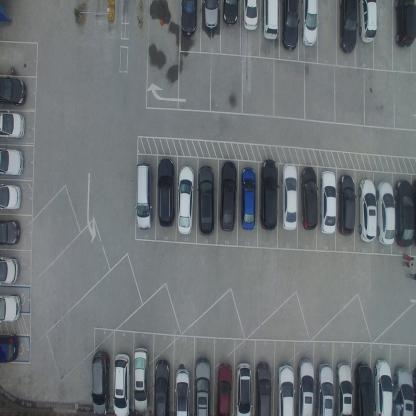car: (394, 178, 416, 248), (259, 158, 279, 231), (218, 160, 237, 233), (156, 157, 175, 228), (376, 181, 396, 245), (176, 165, 194, 236), (197, 164, 214, 238), (135, 162, 153, 231), (91, 350, 110, 415), (300, 165, 318, 231), (358, 178, 376, 242), (112, 352, 130, 415), (319, 170, 336, 236), (193, 354, 211, 416), (282, 162, 298, 231), (393, 365, 415, 415), (338, 174, 356, 235), (133, 345, 149, 413), (373, 358, 392, 415), (240, 165, 256, 231), (296, 357, 314, 415), (152, 358, 170, 416), (394, 0, 416, 46), (339, 0, 358, 53), (353, 362, 372, 415), (334, 360, 352, 415), (315, 363, 334, 415), (276, 364, 295, 416), (215, 362, 233, 416), (234, 362, 252, 415), (282, 0, 300, 52), (254, 361, 271, 416), (0, 76, 28, 107), (301, 0, 319, 48), (358, 0, 378, 43), (174, 367, 191, 415), (0, 146, 25, 178), (0, 292, 22, 324), (262, 0, 280, 39), (0, 110, 25, 138), (0, 181, 22, 212), (180, 0, 198, 37), (0, 330, 19, 364), (0, 253, 20, 285), (0, 218, 21, 248), (242, 0, 259, 31), (203, 0, 219, 29), (222, 0, 239, 26)
